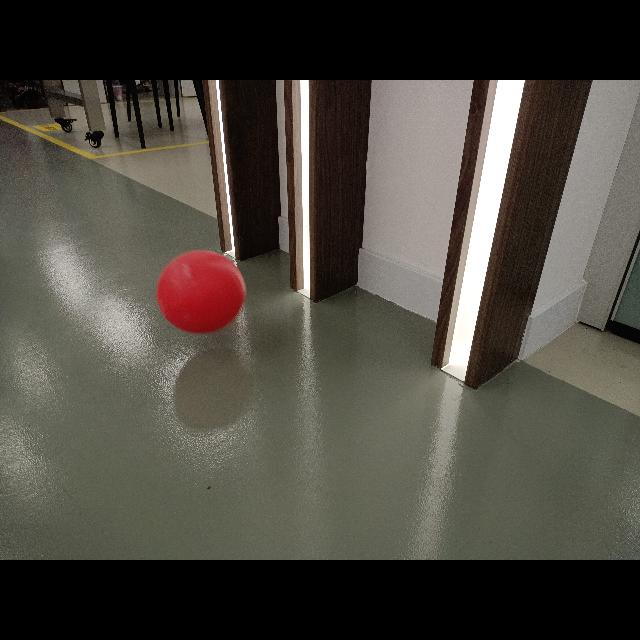R: (152, 248, 252, 338)
